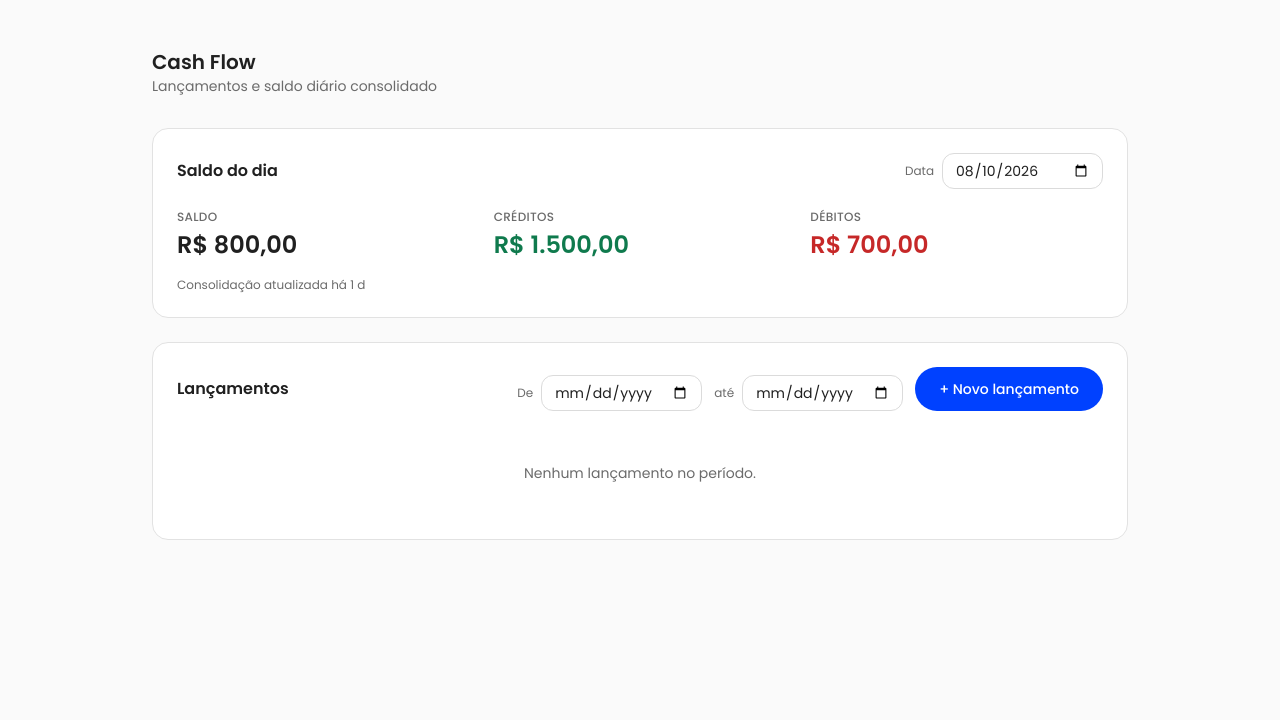
it: DashboardPage › keeps the modal open when the registration fails
This screenshot has width=1280, height=720.
expect the text "Nenhum lançamento no período." is shown: met, box top-left (524, 463), bottom-right (756, 483)
Click the button "+ Novo lançamento" at (1009, 389), box top-left (915, 367), bottom-right (1103, 411)
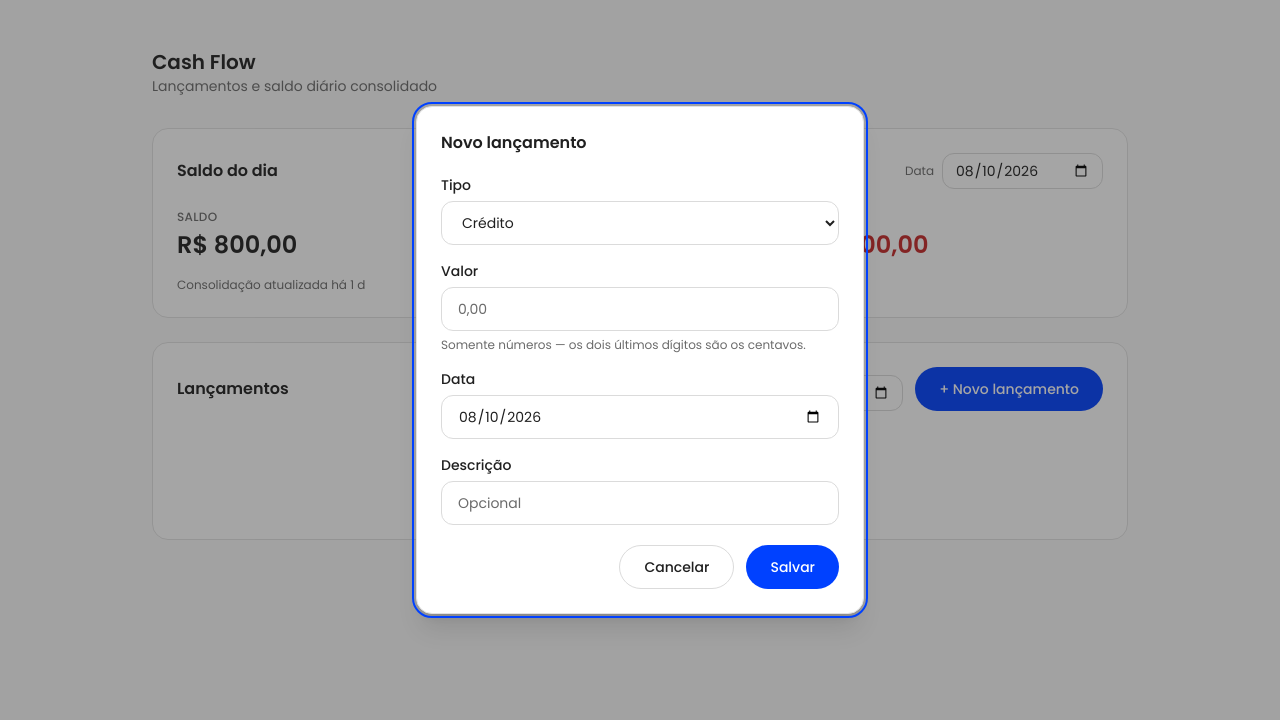
Type "1500" into the field labelled "Valor" at (640, 309), box top-left (441, 287), bottom-right (839, 331)
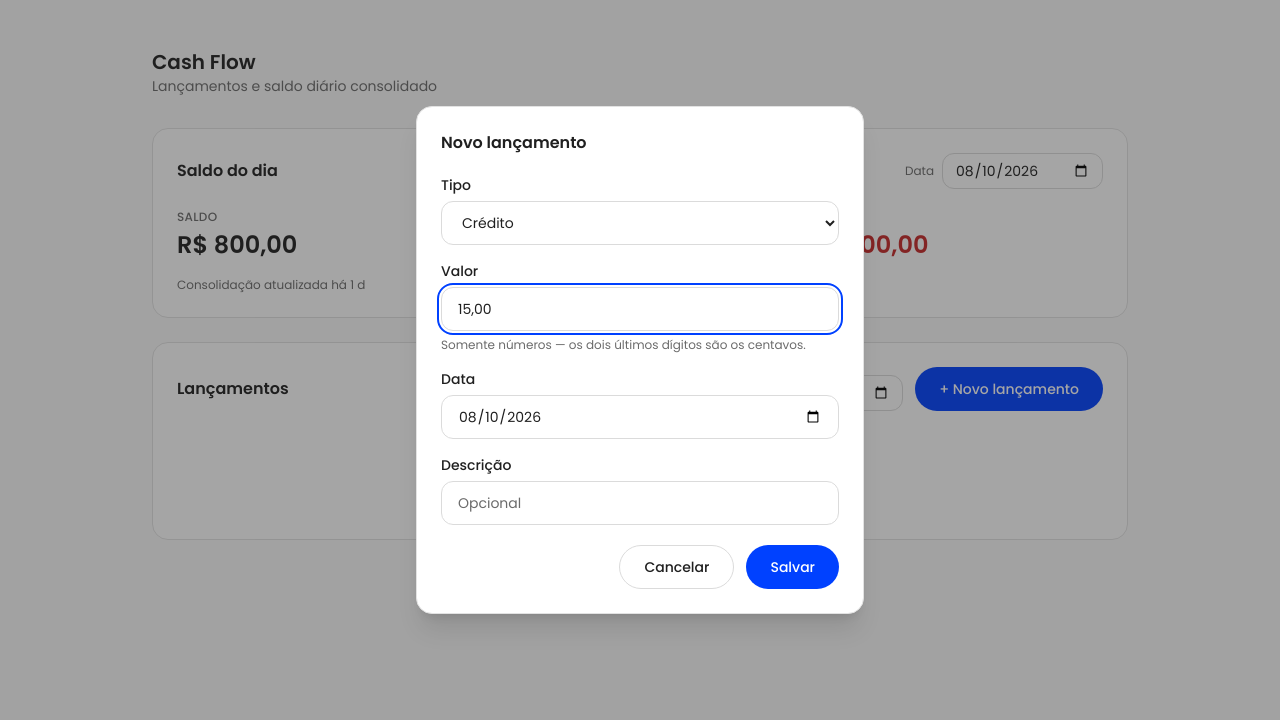
Click the button "Salvar" at (793, 567), box top-left (746, 545), bottom-right (839, 589)
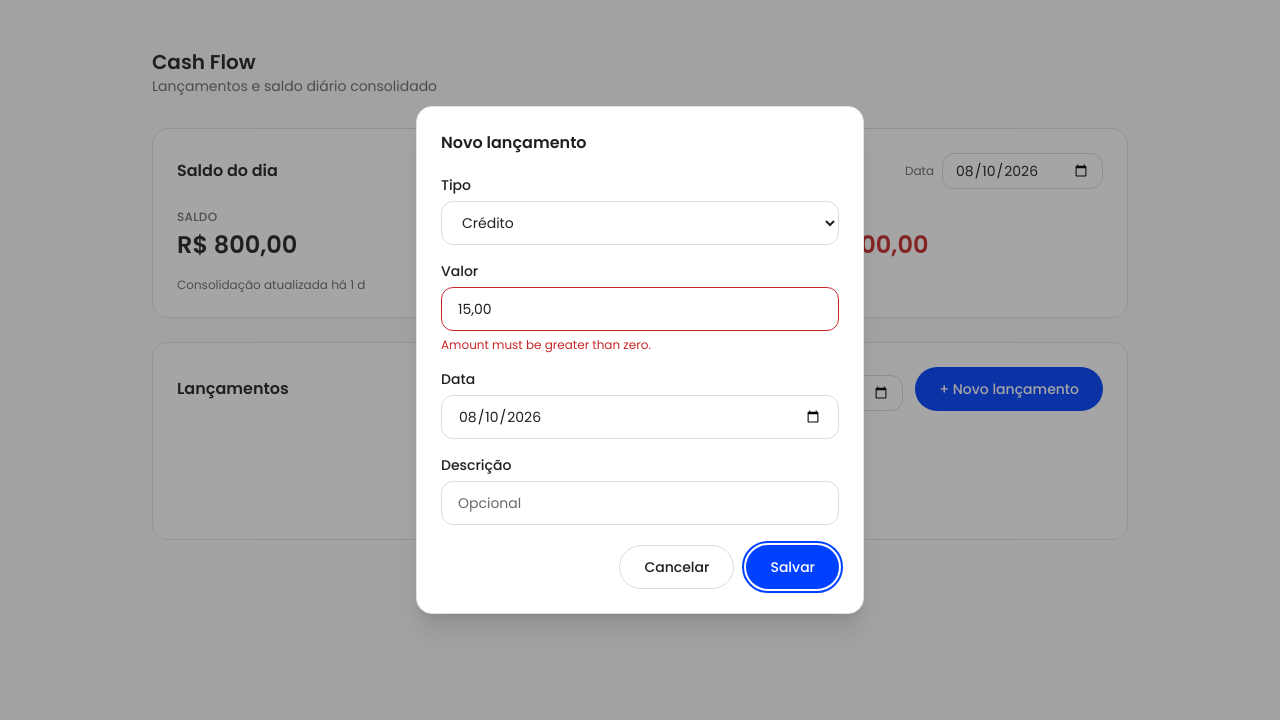
expect the dialog is shown: met, box top-left (416, 106), bottom-right (864, 614)
expect the text "Amount must be greater than zero." is shown: met, box top-left (441, 336), bottom-right (651, 353)
